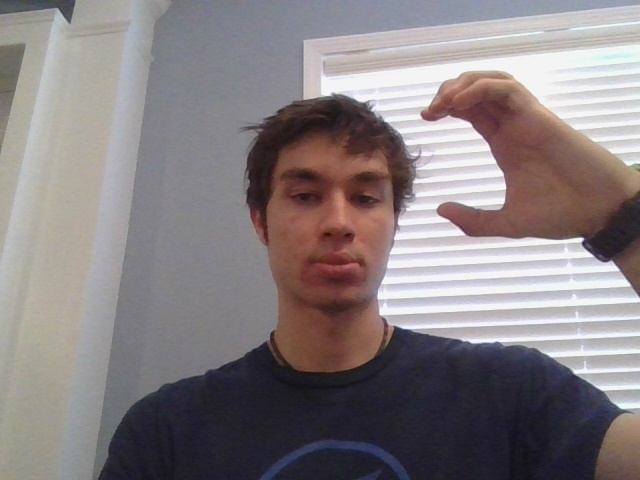c: (413, 58, 564, 249)
